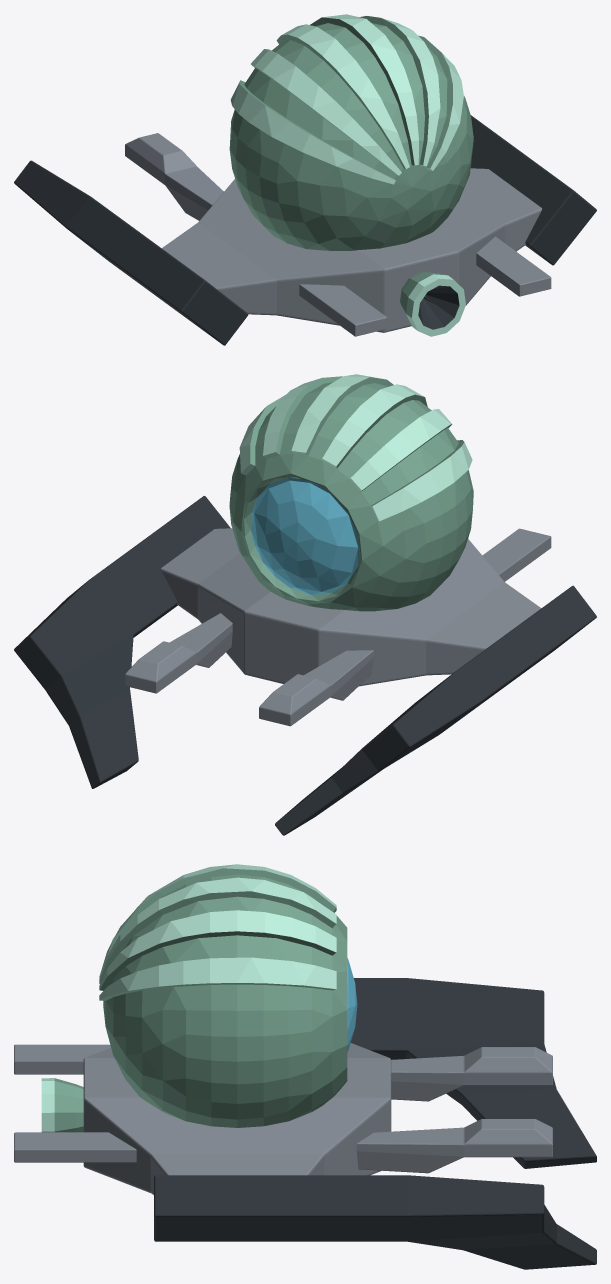
Rendered from Spaceship_05_Merged.fbx.
The picture shows the model from 3 angles, top to bottom: view 1: azimuth 30°, elevation 25°; view 2: azimuth 150°, elevation 25°; view 3: azimuth 270°, elevation 25°; orthographic projection. The views are drawn at different scales.
Parts seen in each view (by area): view 1: Spaceship_05_Merged; view 2: Spaceship_05_Merged; view 3: Spaceship_05_Merged.
Boxes of the visible parts, bbox=[...] form: Spaceship_05_Merged: bbox=[14, 14, 596, 345]; Spaceship_05_Merged: bbox=[14, 374, 596, 835]; Spaceship_05_Merged: bbox=[14, 864, 596, 1269].
Size of the model in its own units: 392 by 281 by 434.
